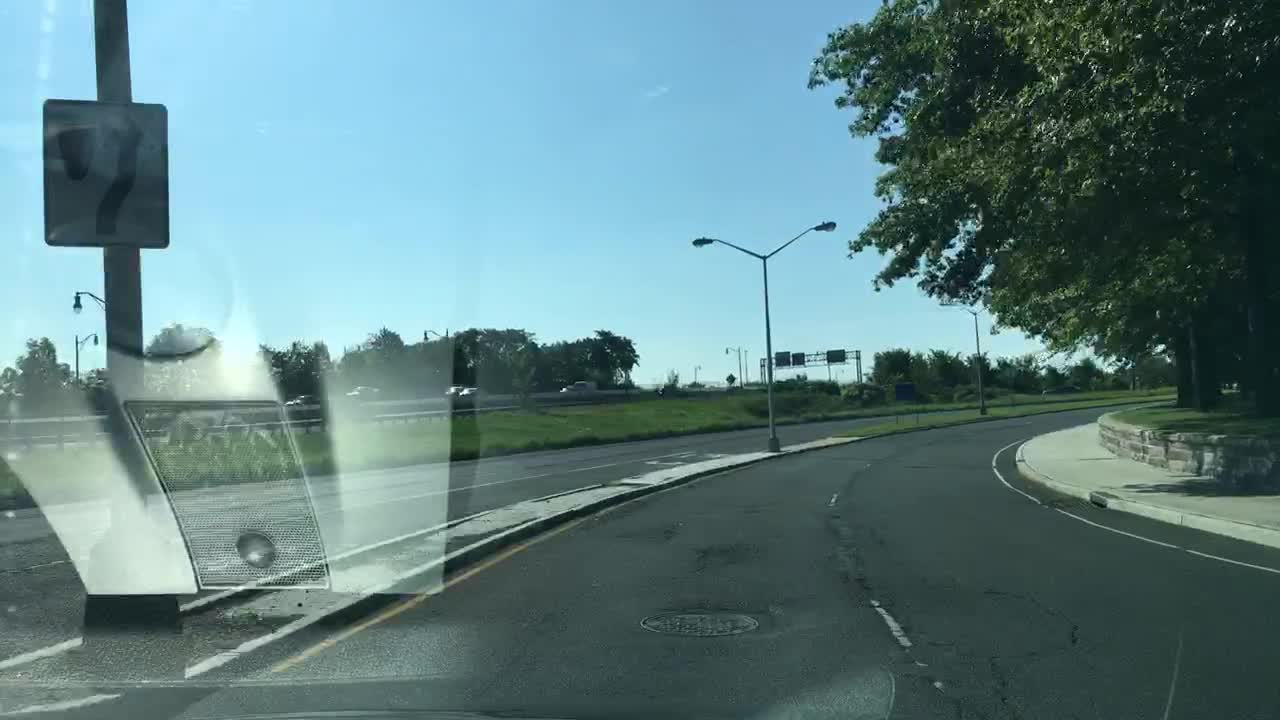car: (1041, 383, 1080, 396), (343, 386, 378, 399), (456, 384, 487, 398), (296, 395, 321, 407), (441, 383, 463, 395), (573, 380, 597, 390), (284, 398, 302, 407), (561, 383, 574, 393)
traffic sign: (44, 98, 167, 248), (772, 350, 790, 369), (824, 350, 844, 365), (791, 351, 805, 365), (724, 374, 736, 386)
